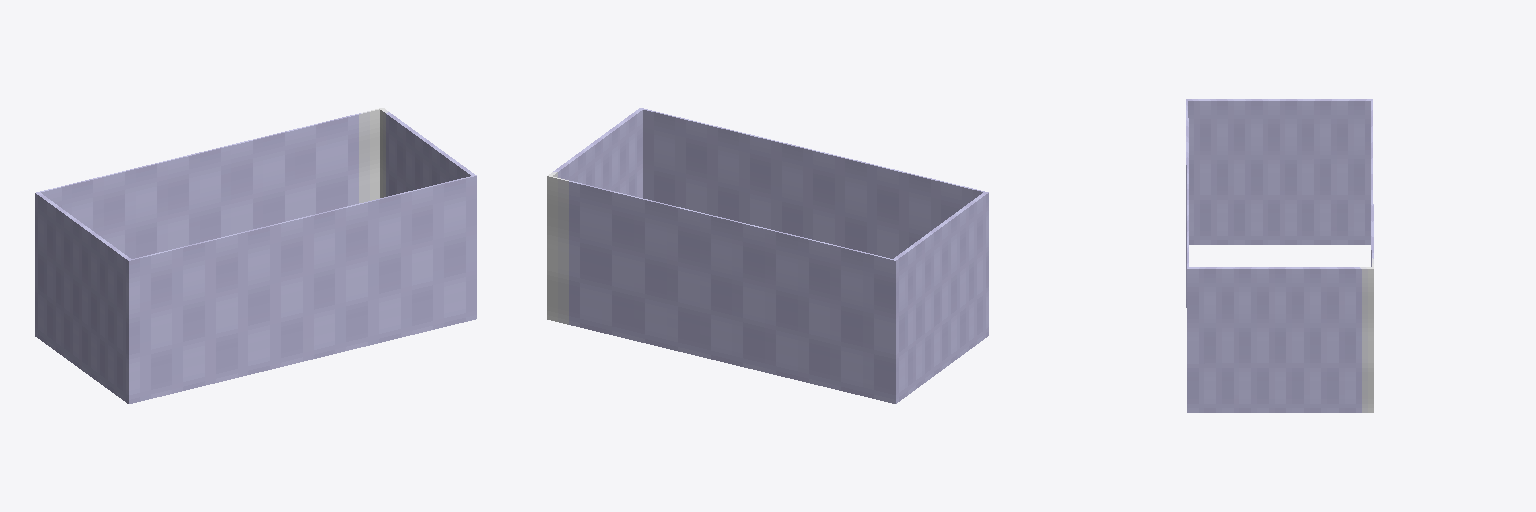
3 renders of one model, left to right at view 1: azimuth 30°, elevation 25°; view 2: azimuth 150°, elevation 25°; view 3: azimuth 270°, elevation 25°, orthographic.
Parts seen in each view (by area): view 1: polySurface3 uploads_files_[number redacted]_Glass_Cage:Mesh; view 2: polySurface3 uploads_files_[number redacted]_Glass_Cage:Mesh; view 3: polySurface3 uploads_files_[number redacted]_Glass_Cage:Mesh.
Boxes of the visible parts, x1=… form: polySurface3 uploads_files_[number redacted]_Glass_Cage:Mesh: x1=35, y1=108, x2=476, y2=403; polySurface3 uploads_files_[number redacted]_Glass_Cage:Mesh: x1=547, y1=108, x2=988, y2=403; polySurface3 uploads_files_[number redacted]_Glass_Cage:Mesh: x1=1186, y1=99, x2=1373, y2=412.
Bounding box in the file's own units: 1.4 × 0.5506 × 0.6525.
1 materials, 1 textured.